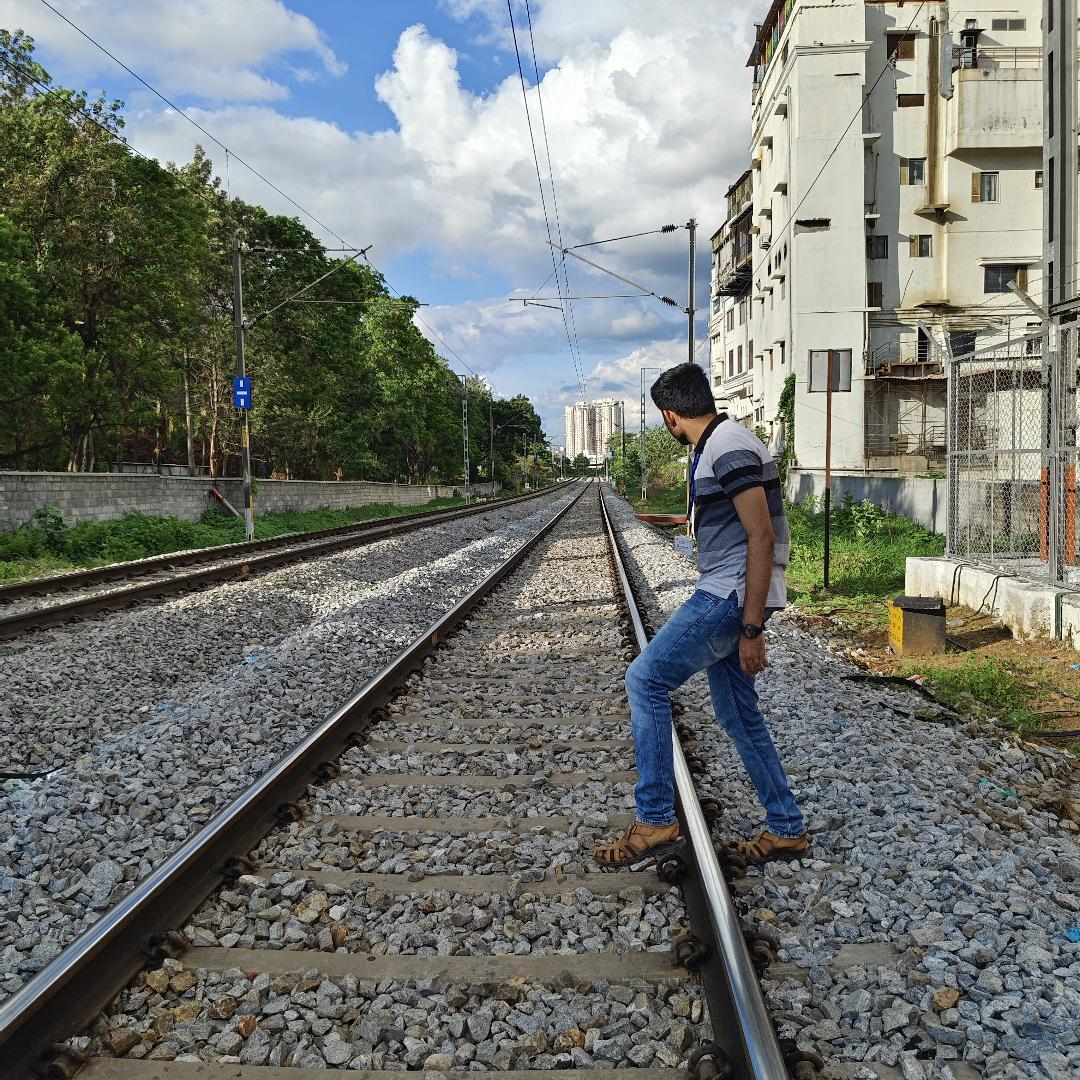standing: (572, 326, 845, 876)
